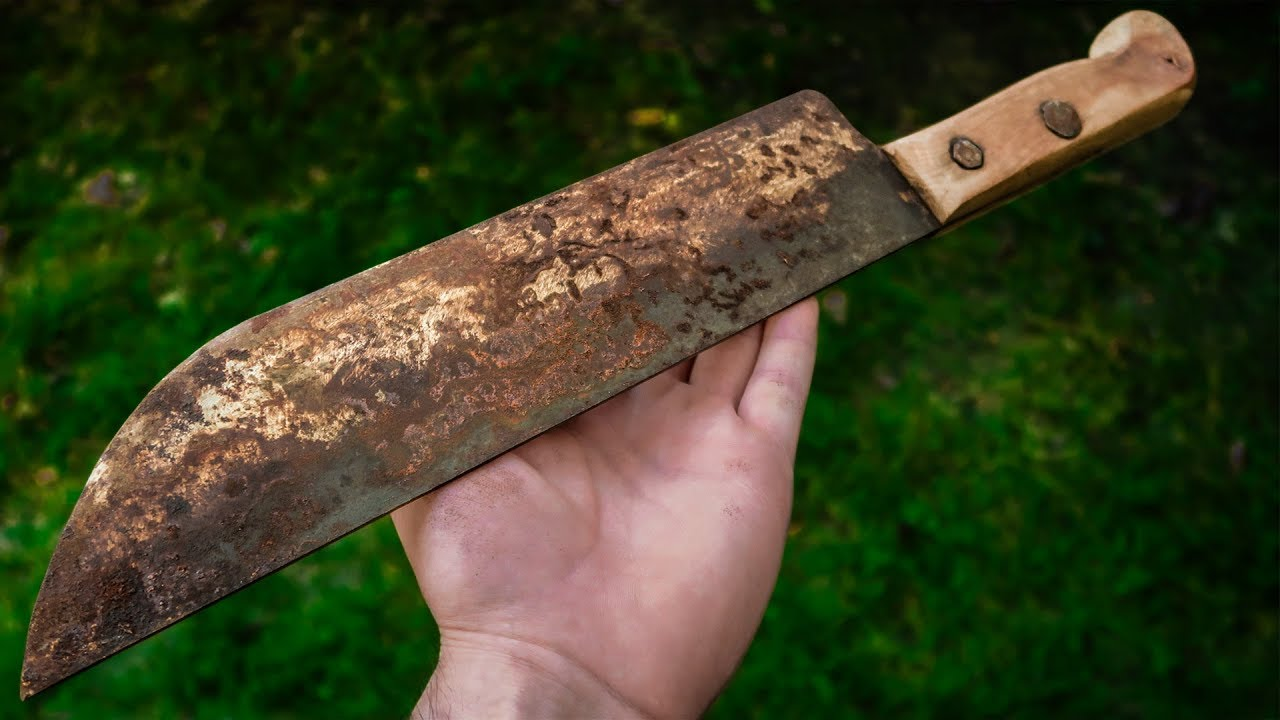knife: (17, 4, 1205, 705)
